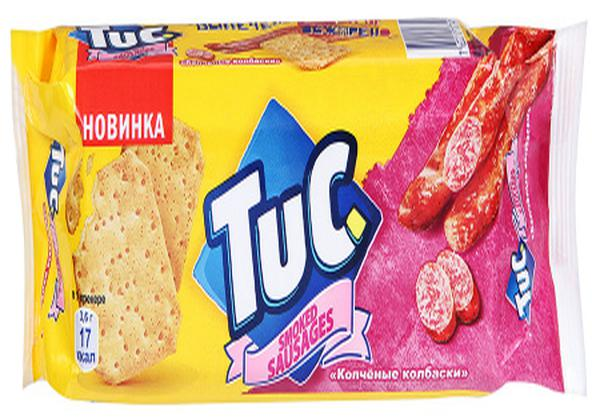crackers tuc: (46, 28, 555, 394)
